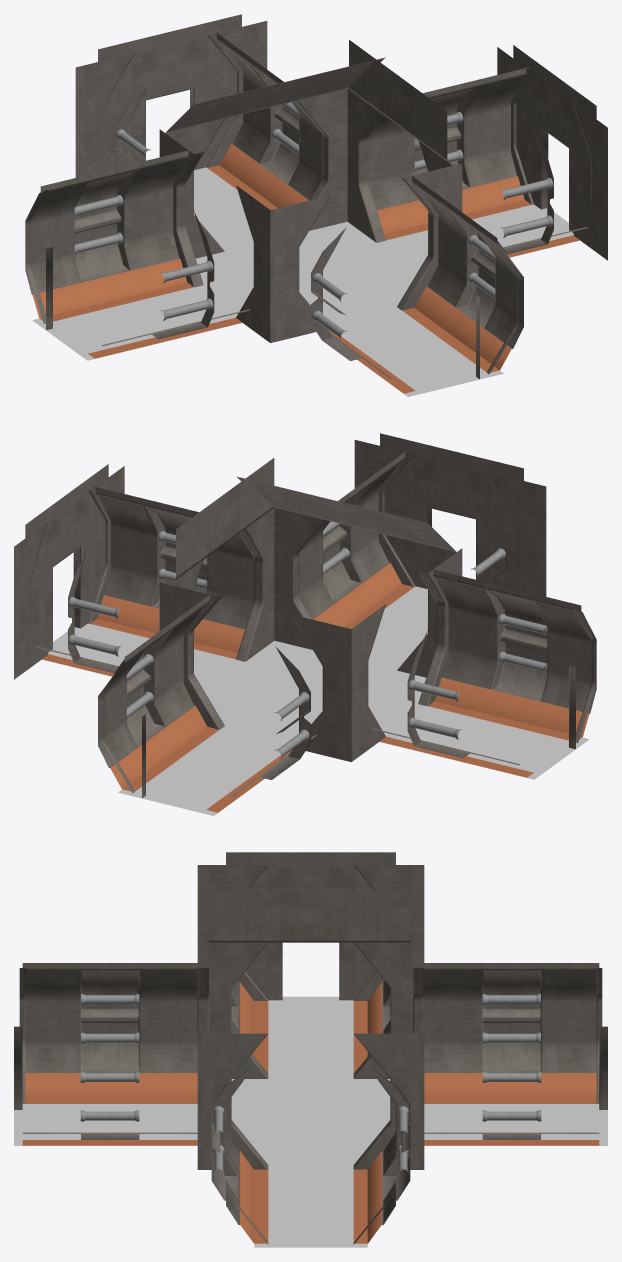
The model's file is HC_room4.gltf.
The picture shows the model from 3 angles, top to bottom: view 1: azimuth 30°, elevation 25°; view 2: azimuth 150°, elevation 25°; view 3: azimuth 270°, elevation 25°; orthographic projection. The views are drawn at different scales.
Parts seen in each view (by area): view 1: Room4_HCZ; view 2: Room4_HCZ; view 3: Room4_HCZ.
Boxes of the visible parts, left/top/right/bottom form: Room4_HCZ: left=25, top=14, right=607, bottom=396; Room4_HCZ: left=14, top=433, right=596, bottom=815; Room4_HCZ: left=14, top=852, right=607, bottom=1247.
Bounding box in the file's own units: 20.94 × 7.3 × 20.94.
